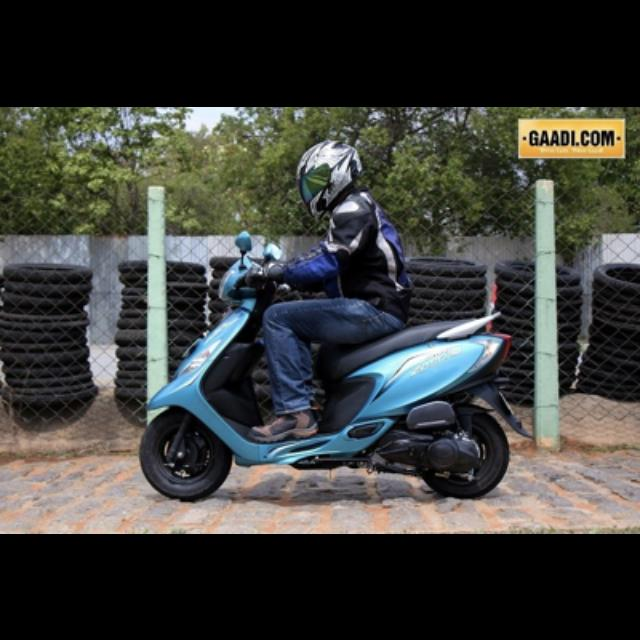With Helmet: (288, 138, 366, 222)
